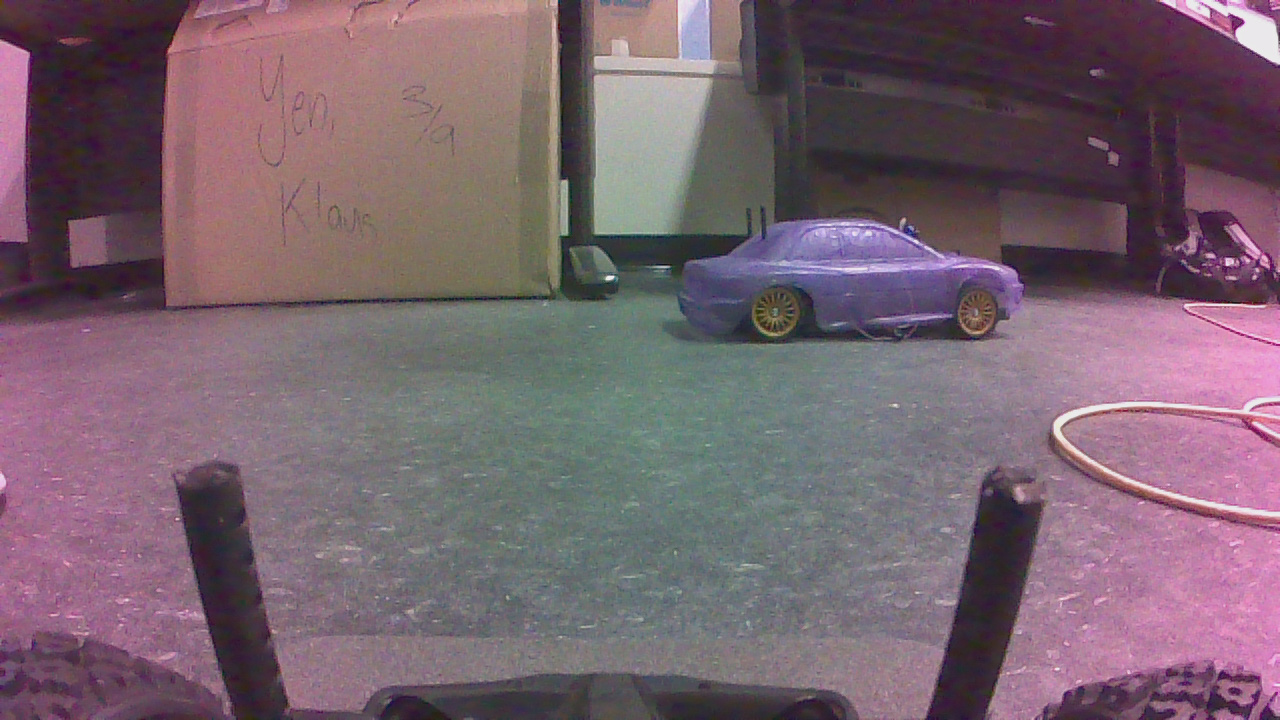opponent: (678, 208, 1031, 348)
